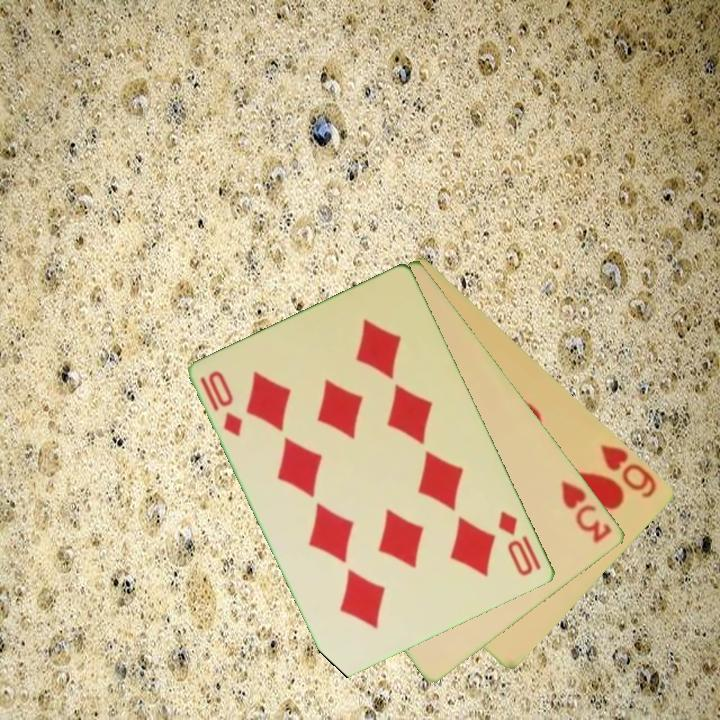10d: (495, 507, 545, 580), (197, 367, 247, 440)
3h: (558, 477, 616, 547)
6h: (597, 440, 660, 501)
